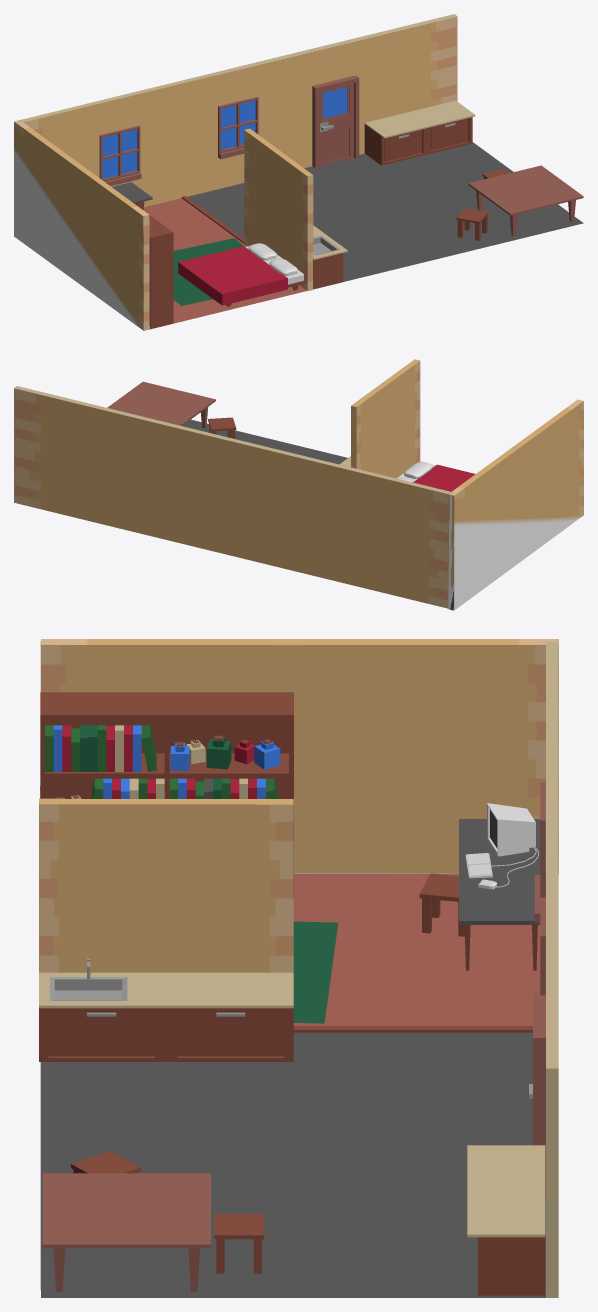
File: HouseZone.glb
The picture shows the model from 3 angles, top to bottom: view 1: azimuth 30°, elevation 25°; view 2: azimuth 150°, elevation 25°; view 3: azimuth 270°, elevation 25°; orthographic projection. The views are drawn at different scales.
Parts seen in each view (by area): view 1: wallback, house, wall left, wallSink, bed, CabinetBack, door, table, stool.001, desk; view 2: wallback, wall left, wallSink, table, bed, house, stool.001; view 3: house, wall left, wallSink, table, CabinetBack, wallback, desk, pc, door, stool.002, stool.001.
Boxes of the visible parts, box(x1,y1,x2,y2) form: wallback: box(17, 14, 457, 207); house: box(143, 142, 583, 328); wall left: box(14, 121, 173, 330); wallSink: box(244, 128, 347, 290); bed: box(178, 243, 305, 306); CabinetBack: box(364, 100, 475, 165); door: box(312, 75, 359, 168); table: box(468, 165, 583, 236); stool.001: box(456, 208, 488, 240); desk: box(112, 182, 152, 209); wallback: box(14, 386, 454, 608); wall left: box(448, 399, 583, 610); wallSink: box(339, 359, 420, 478); table: box(107, 381, 215, 428); bed: box(396, 461, 475, 491); house: box(182, 419, 347, 464); stool.001: box(208, 417, 236, 438); house: box(40, 874, 545, 1297); wall left: box(40, 639, 558, 896); wallSink: box(39, 798, 293, 1061); table: box(42, 1173, 210, 1291); CabinetBack: box(467, 1145, 545, 1295); wallback: box(534, 641, 558, 1297); desk: box(419, 819, 540, 970); pc: box(465, 803, 538, 889); door: box(529, 995, 545, 1198); stool.002: box(214, 1214, 263, 1273); stool.001: box(71, 1151, 140, 1173).
Bounding box in the file's own units: 12.07 × 3.02 × 6.17.
Materials: 16 (1 with a texture image).
